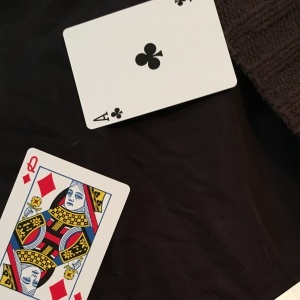card: (61, 1, 238, 136)
